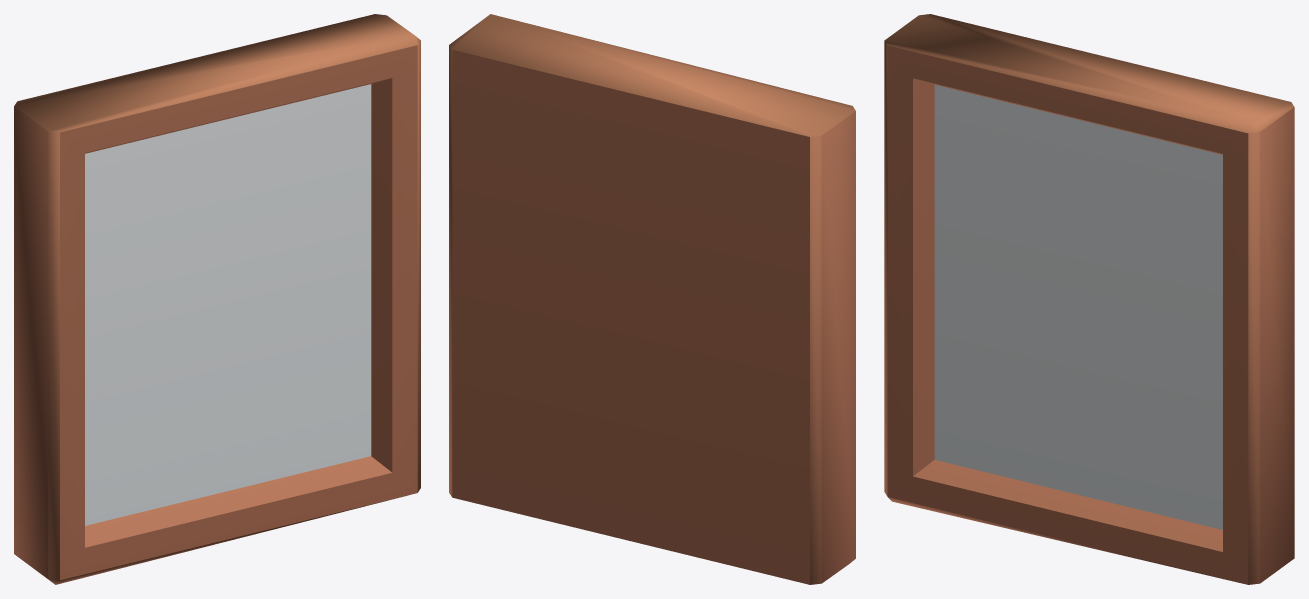
Rendered from cc0-pictureframe-lod1.glb.
3 views of the same model, side by side, from view 1: azimuth 30°, elevation 25°; view 2: azimuth 150°, elevation 25°; view 3: azimuth 330°, elevation 25° (orthographic).
Visible parts, largest first — view 1: part_0; view 2: part_0; view 3: part_0.
Boxes of the visible parts, left/top/right/bottom form: part_0: left=14, top=14, right=420, bottom=584; part_0: left=449, top=14, right=855, bottom=584; part_0: left=884, top=14, right=1294, bottom=584.
Size of the model in its own units: 1.01 by 1.2 by 0.2.
Materials: 1 (1 with a texture image).
